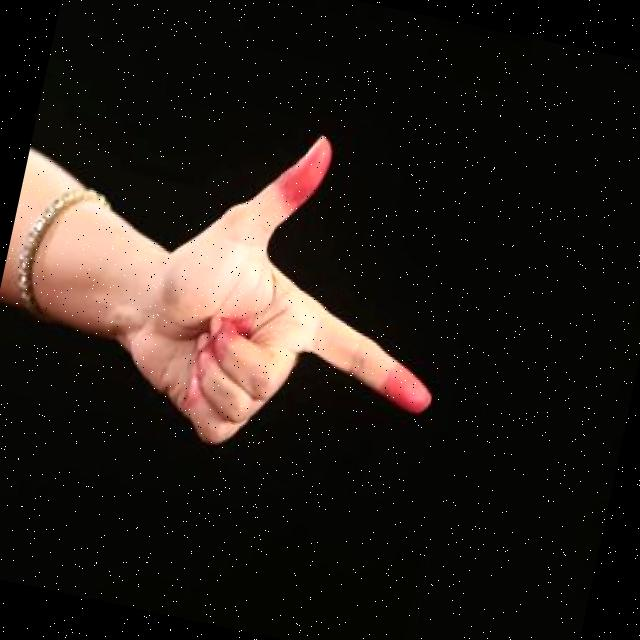Chandrakala: (93, 87, 500, 520)
